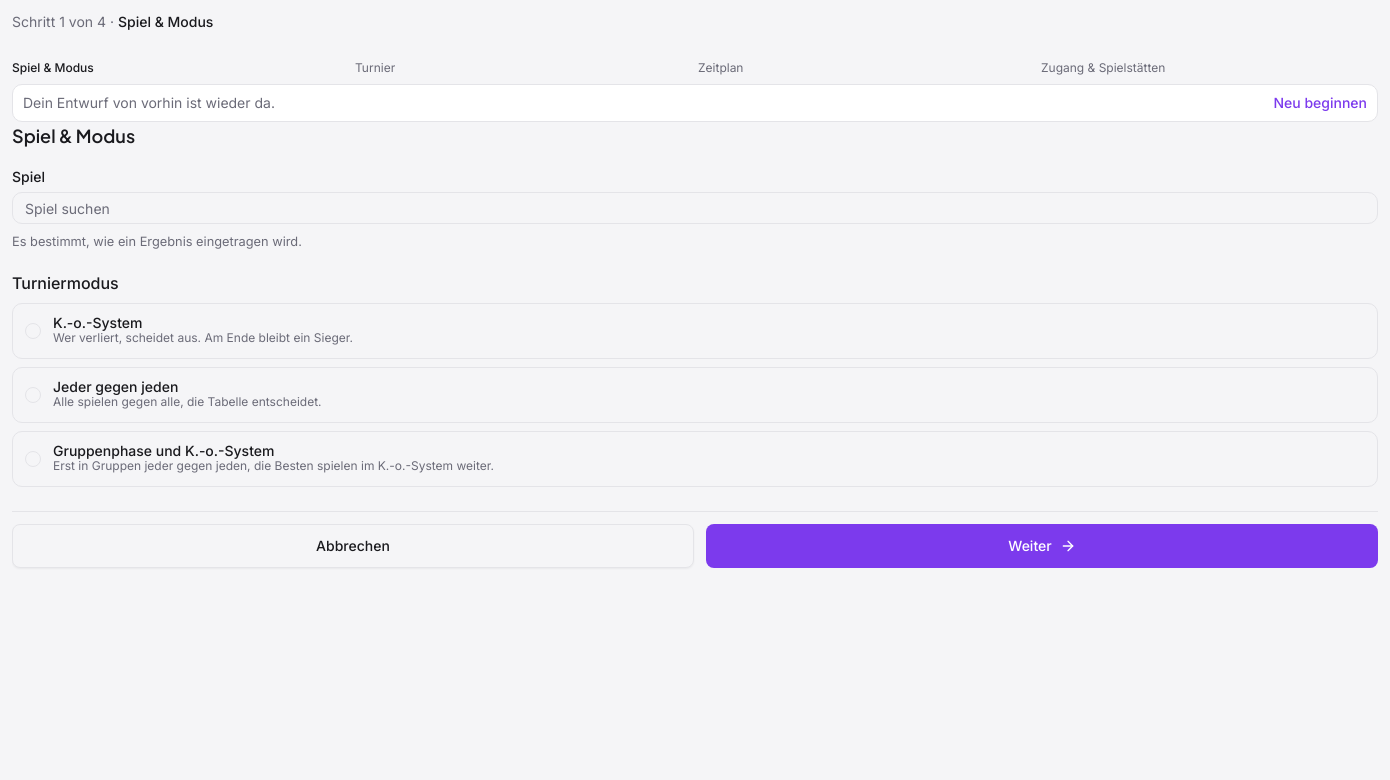
Test: NewTournamentForm › starts over without the draft
This screenshot has width=1390, height=780.
What coordinates should you click on to do the following:
click the button "Neu beginnen"
I would click on:
 (1320, 103)
Its box is left=1274, top=93, right=1367, bottom=113.
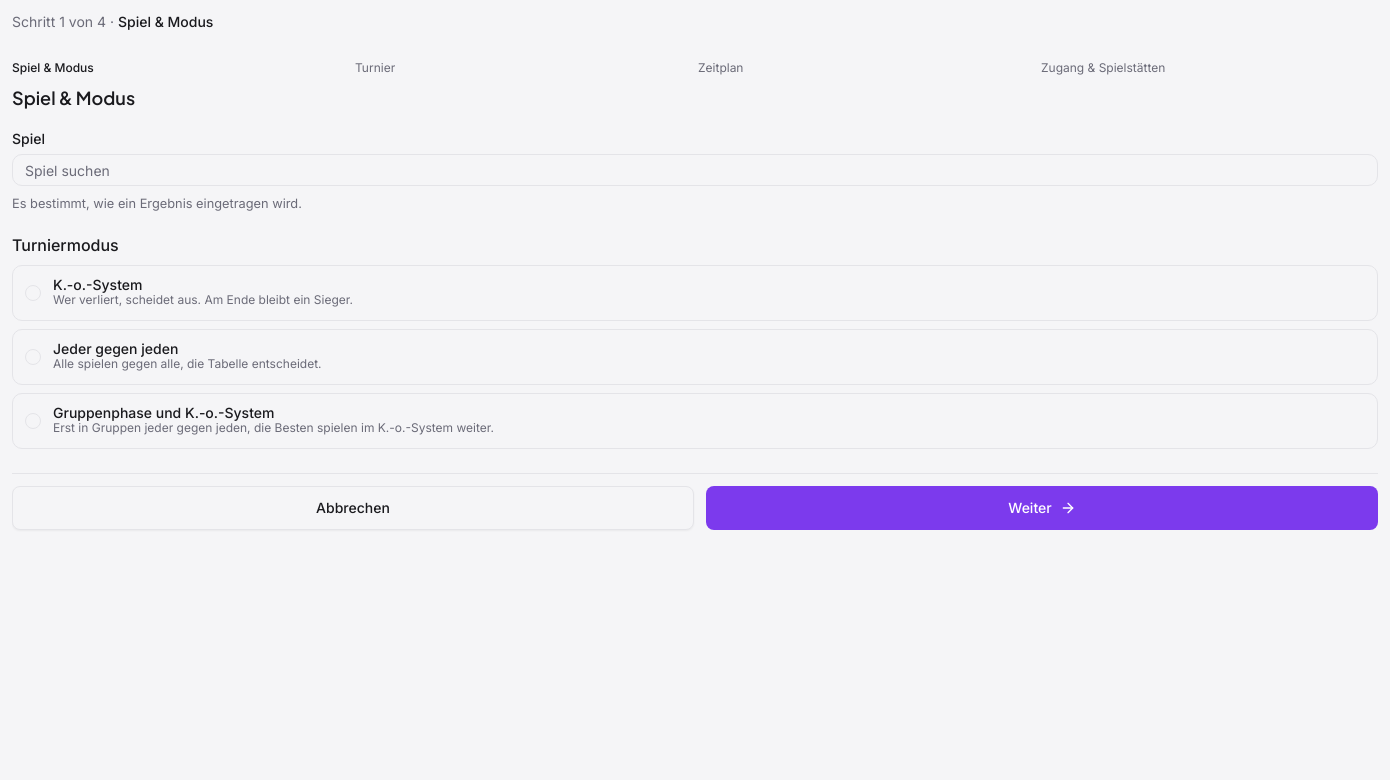
Check: the text "Dein Entwurf von vorhin ist wieder da." is gone
